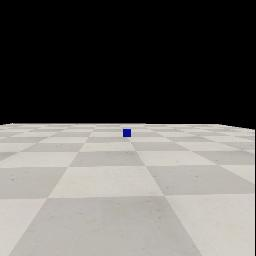box: (123, 129, 131, 137)
